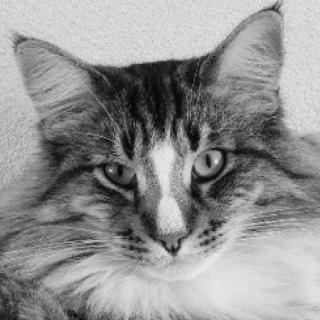cat: (15, 25, 298, 288)
nose: (134, 190, 198, 260)
